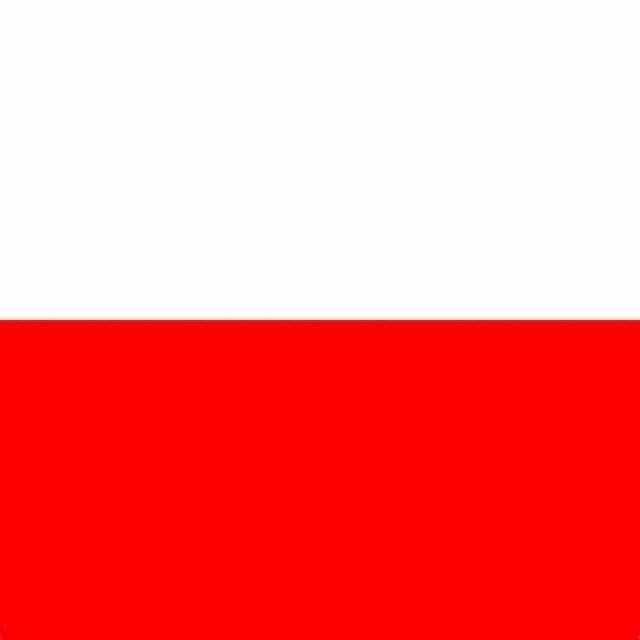poland: (0, 5, 618, 640)
